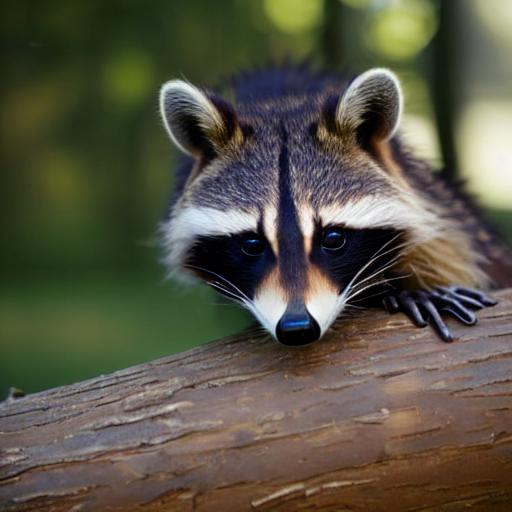raccoon: (144, 50, 416, 352)
